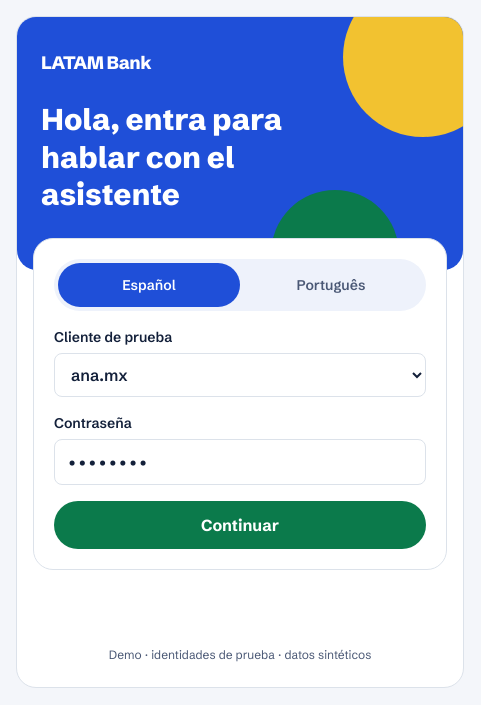
Scenario: LoginForm › the code step reads as Portuguese, not words Spanish shares
Expected: the heading "Hola, entra para hablar con el asistente" is shown, [41, 101, 282, 213]
Click the radio button labelled "Português". click: (331, 284)
box: [240, 262, 422, 306]
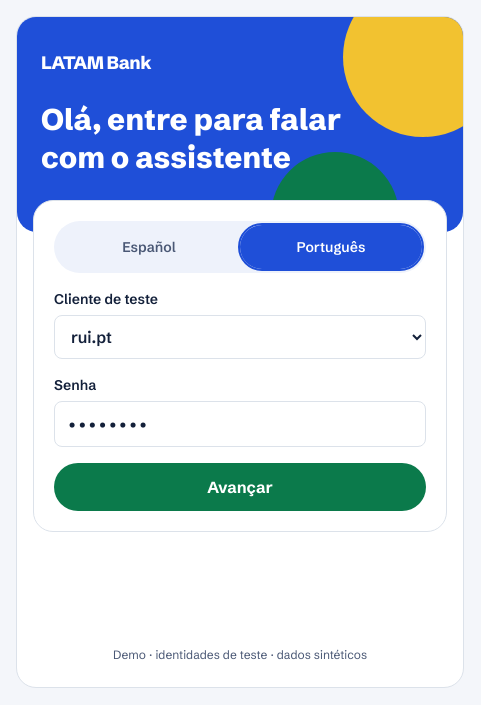
Click the button "Avançar". click: (240, 487)
box: [54, 463, 426, 511]
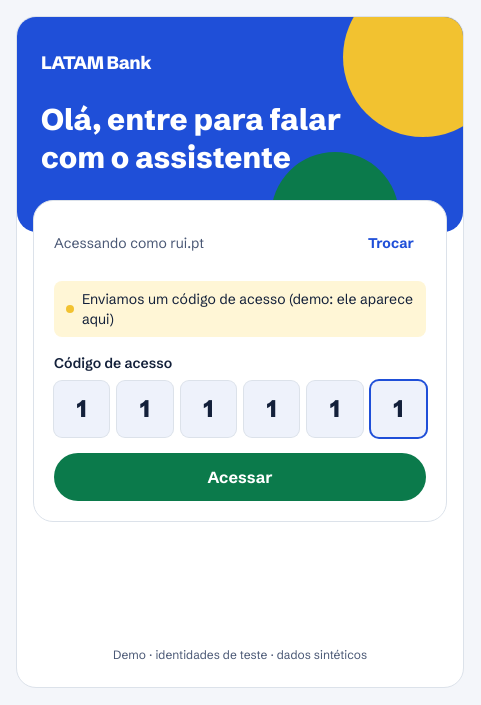
Expected: the text "Acessando como rui.pt" is shown, [54, 233, 204, 253]
Expected: the text "Enviamos um código de acesso (demo: ele aparece aqui)" is shown, [54, 281, 426, 337]
Expected: the button "Acessar" is shown, [54, 453, 426, 501]
